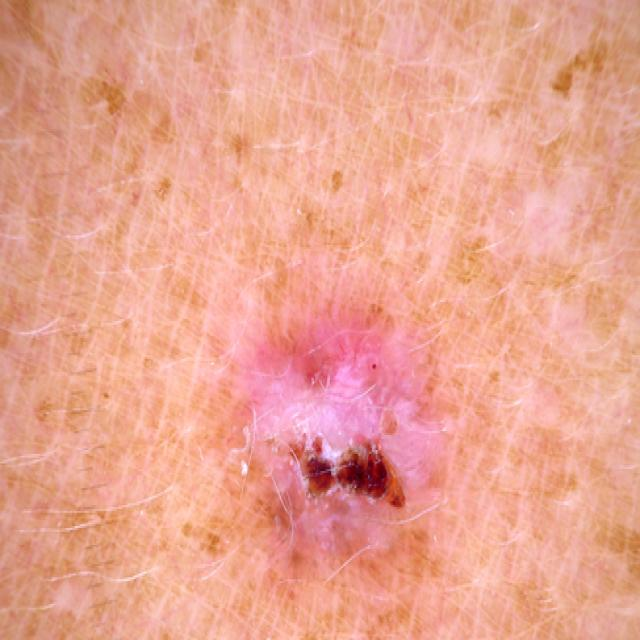Carcinoma: (211, 291, 536, 624)
